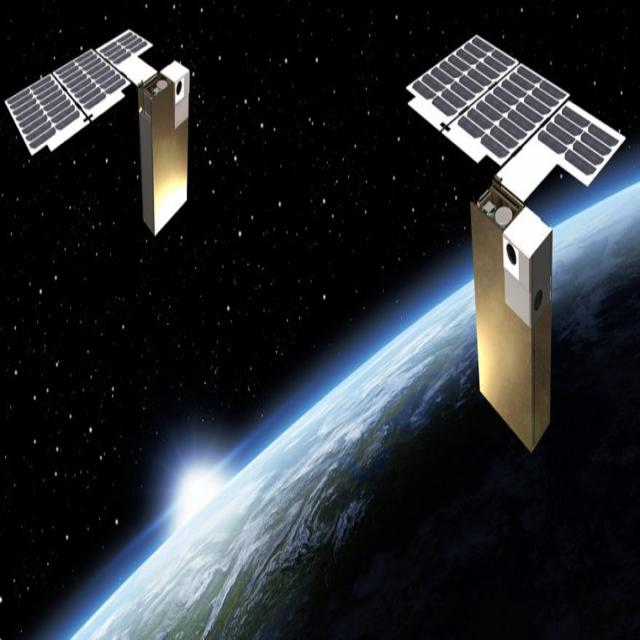satellite: (404, 27, 626, 456), (3, 26, 194, 238)
